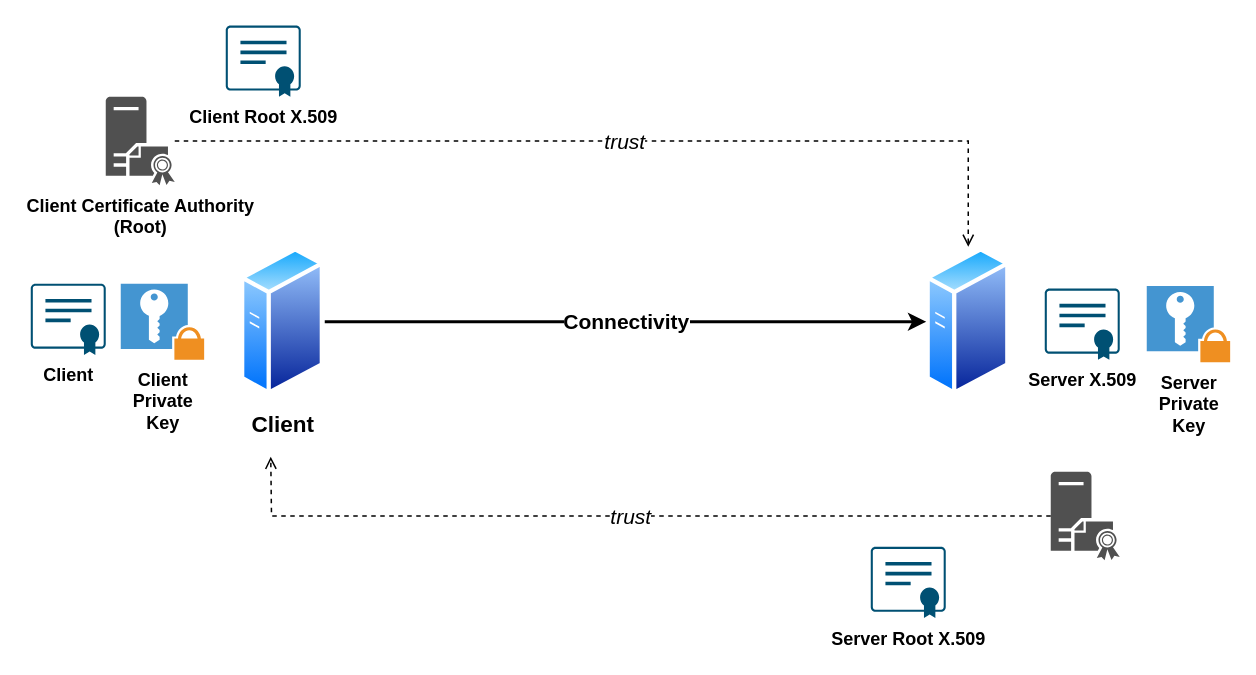
This 1256x675 diagram has some shape labels left out. Here are the shapes that lost their labels. From the top down, the centre of each, then its label:
point 968,321: Server
point 1084,515: Server Certificate Authority (Root)
